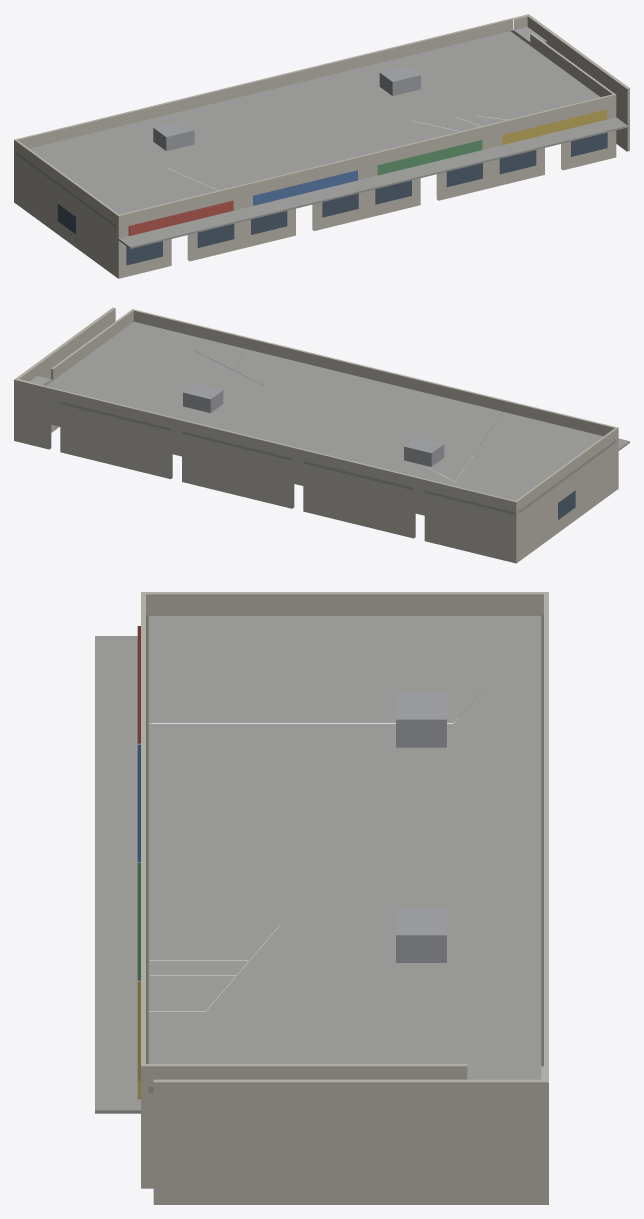
The model's file is strip-mall.gaps-v1.lod1.glb.
The picture shows the model from 3 angles, top to bottom: view 1: azimuth 30°, elevation 25°; view 2: azimuth 150°, elevation 25°; view 3: azimuth 270°, elevation 25°; orthographic projection. The views are drawn at different scales.
Visible parts, largest first — view 1: strip-mall; view 2: strip-mall; view 3: strip-mall.
Part boxes in pixels (bbox=[...]): strip-mall: bbox=[14, 14, 629, 278]; strip-mall: bbox=[14, 307, 629, 563]; strip-mall: bbox=[95, 592, 548, 1204].
Bounding box in the file's own units: 45.5 × 5.6 × 17.8.
